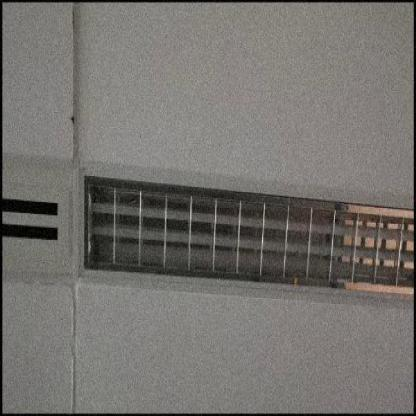light_off: (71, 145, 414, 307)
